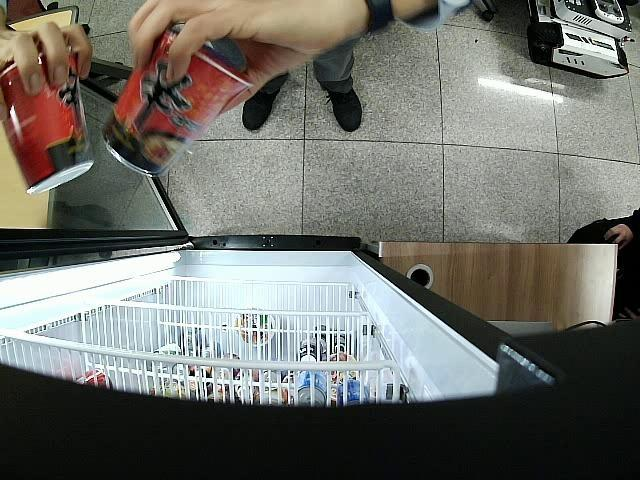02_shinRamen_S: (102, 28, 256, 177), (2, 53, 94, 196)
